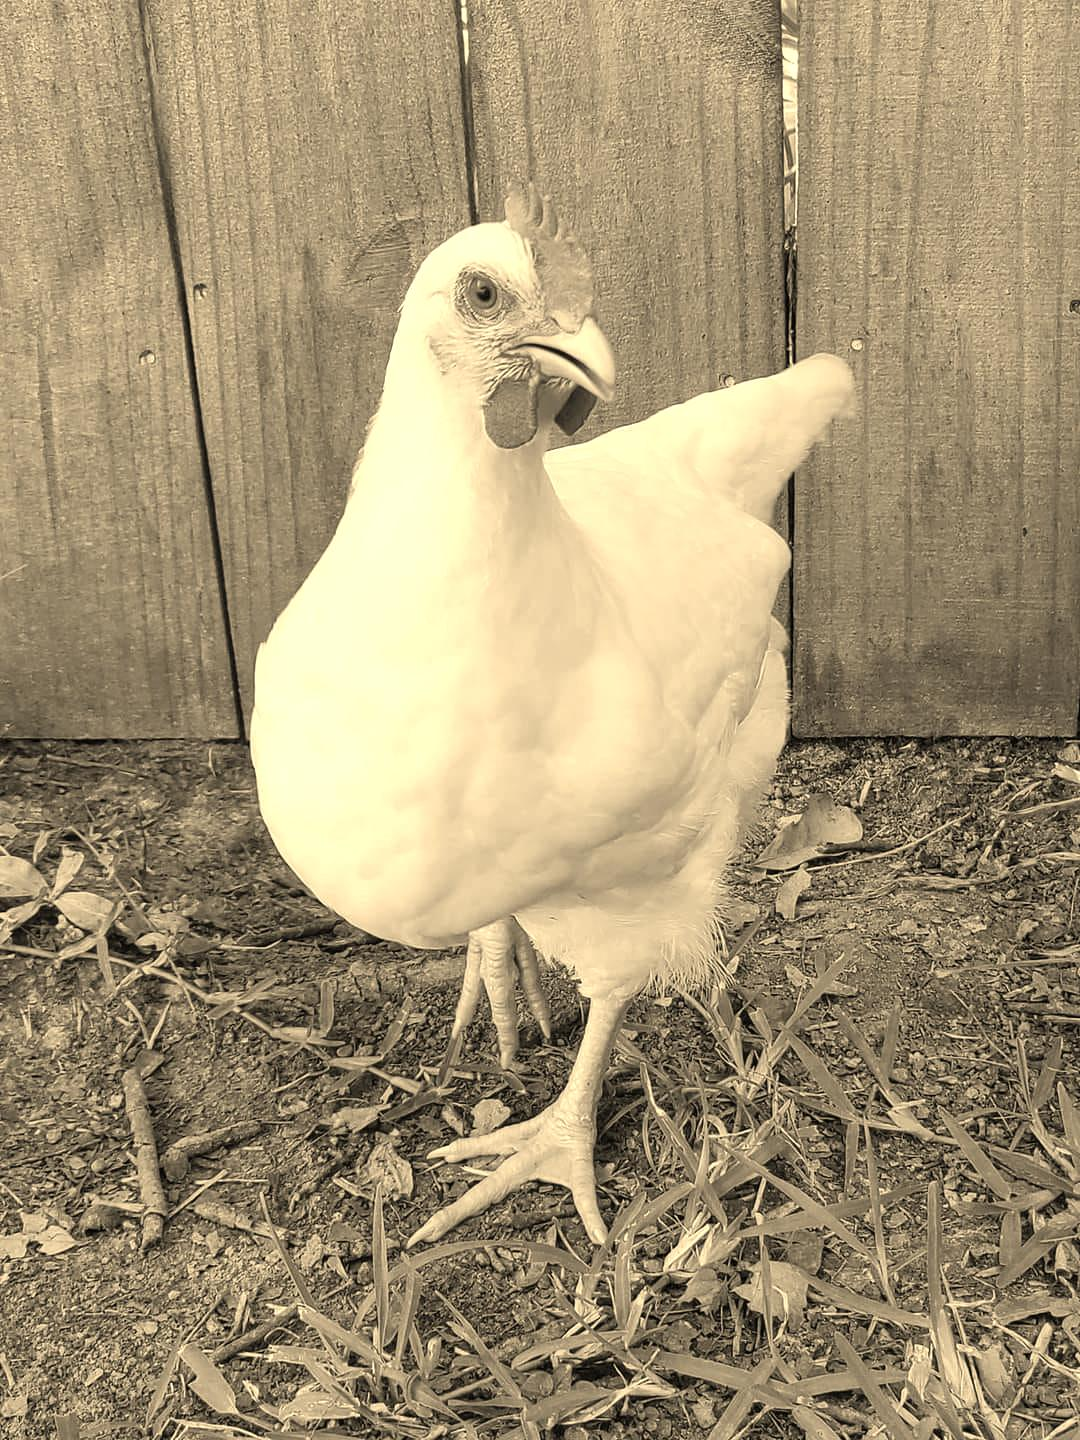Healthy: (237, 190, 857, 1257)
